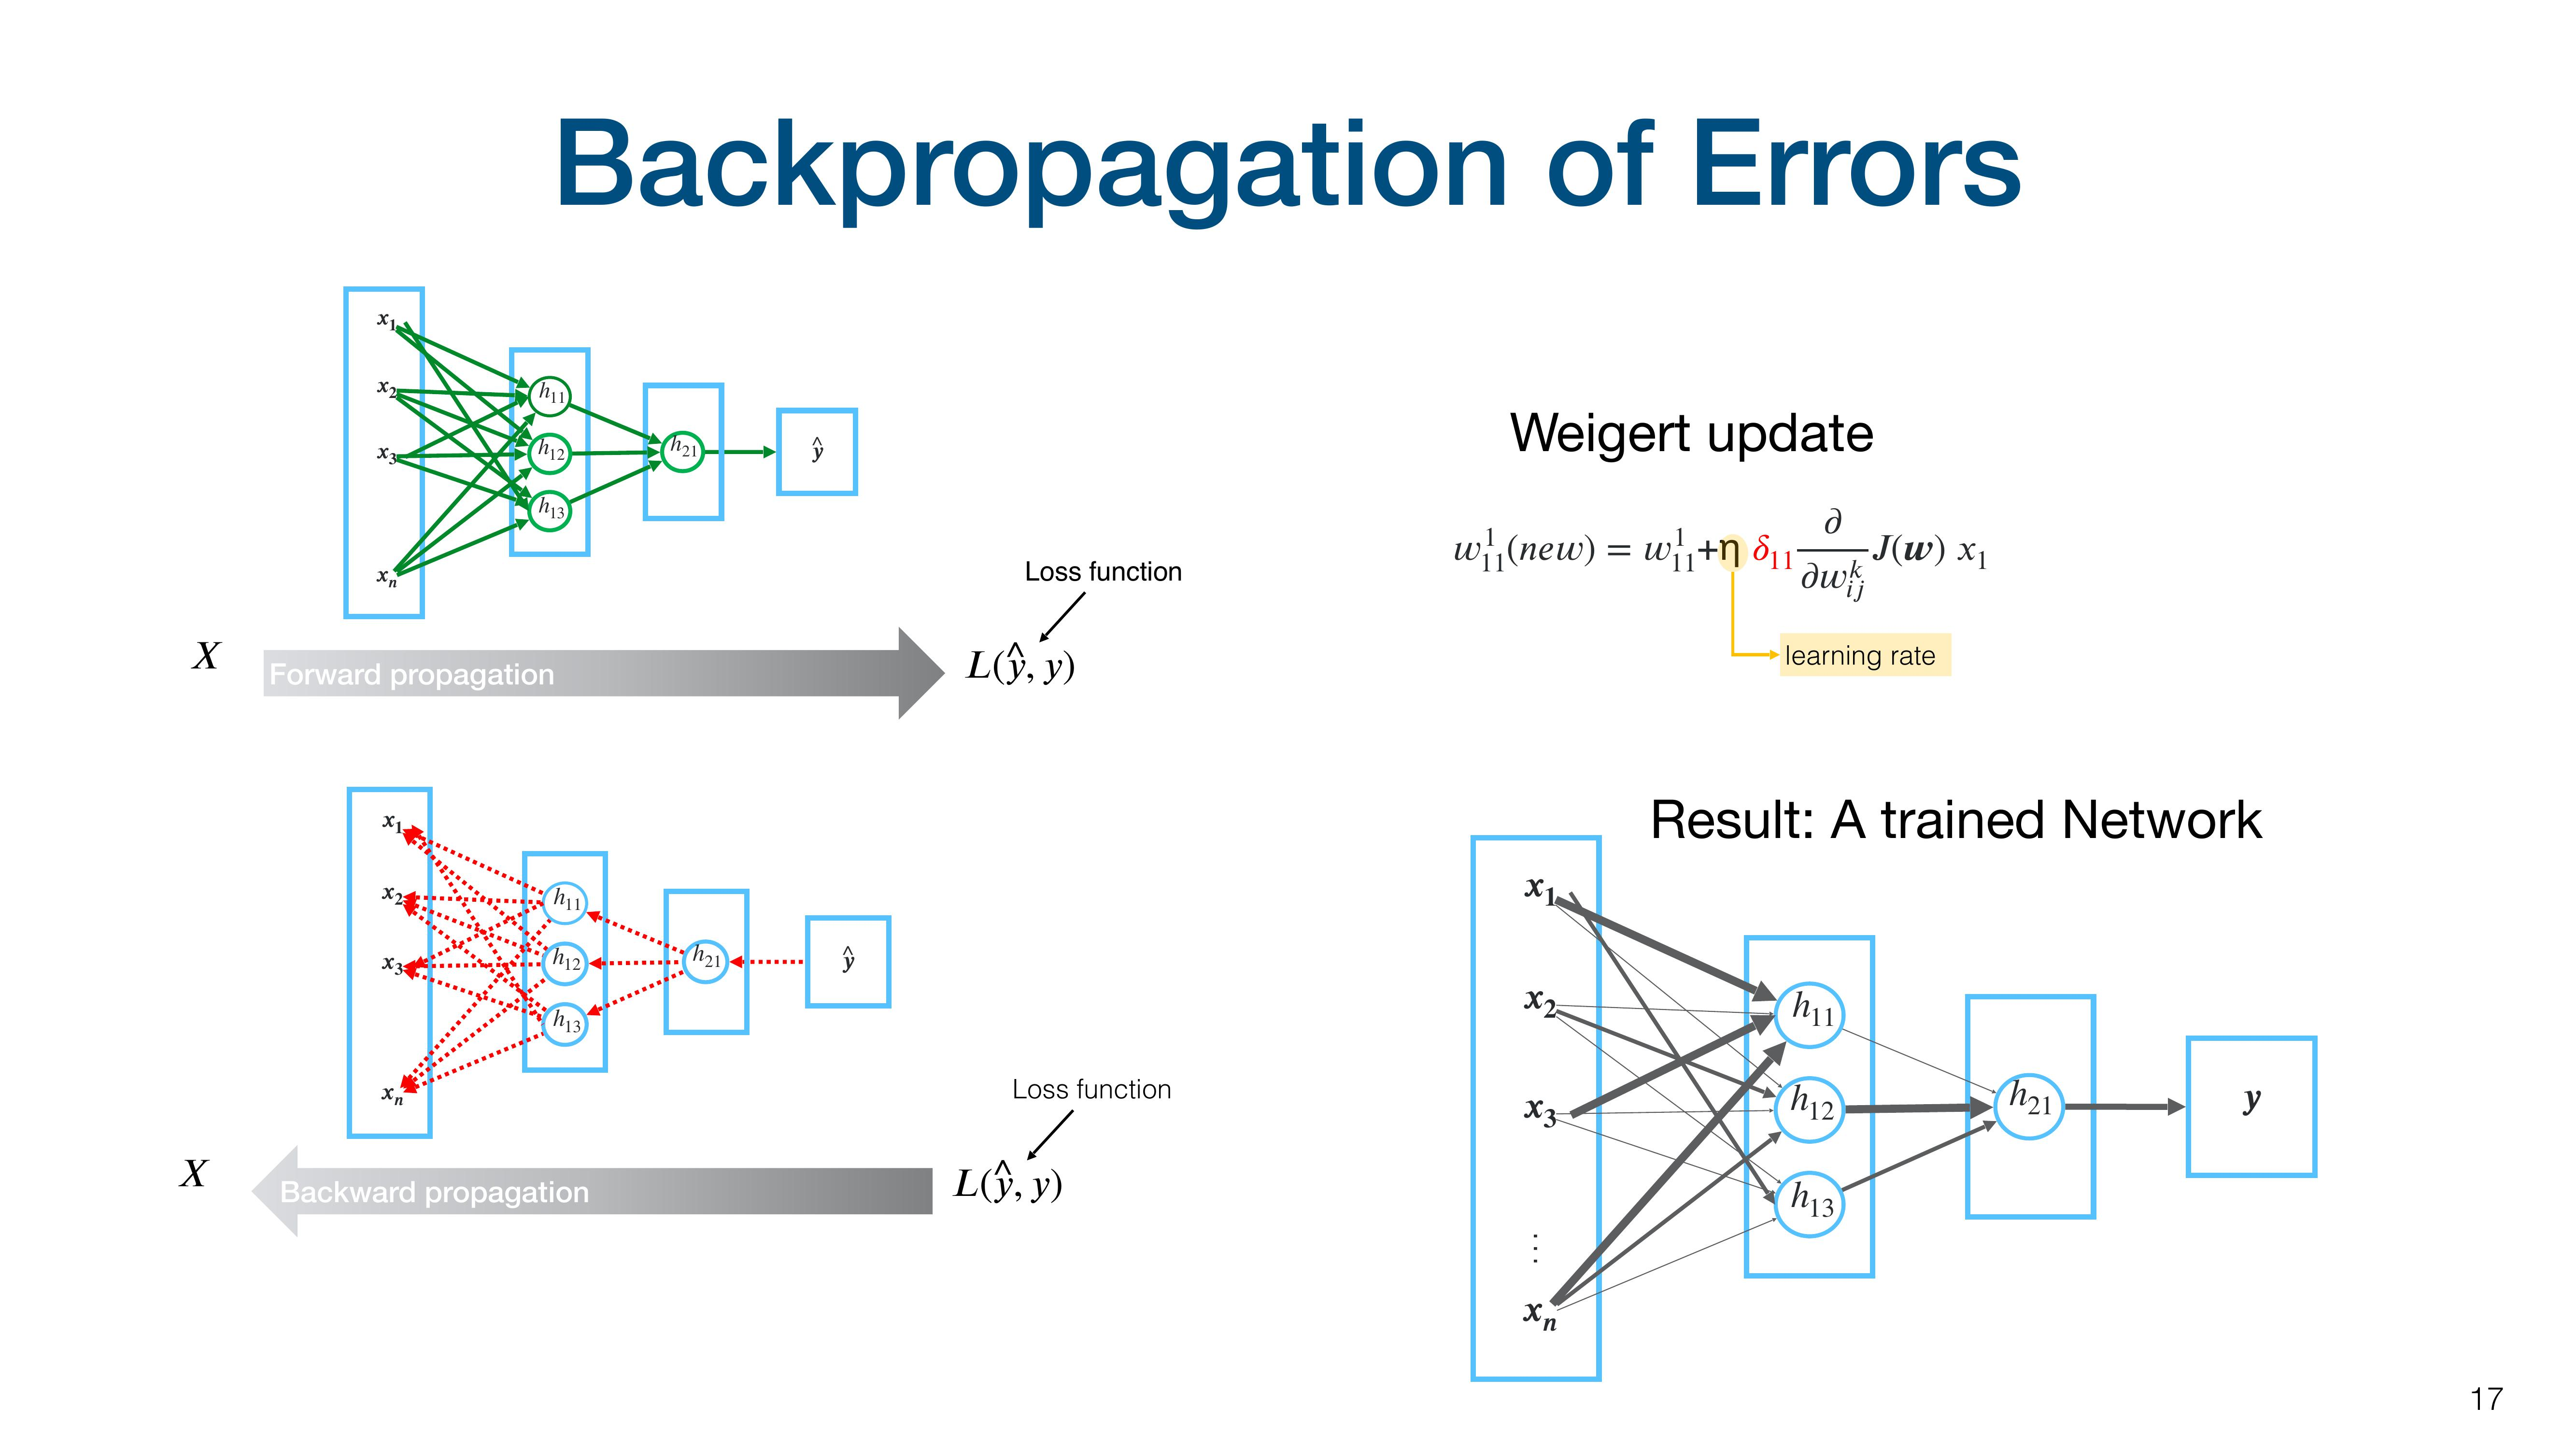Title: (517, 85, 2024, 242)
